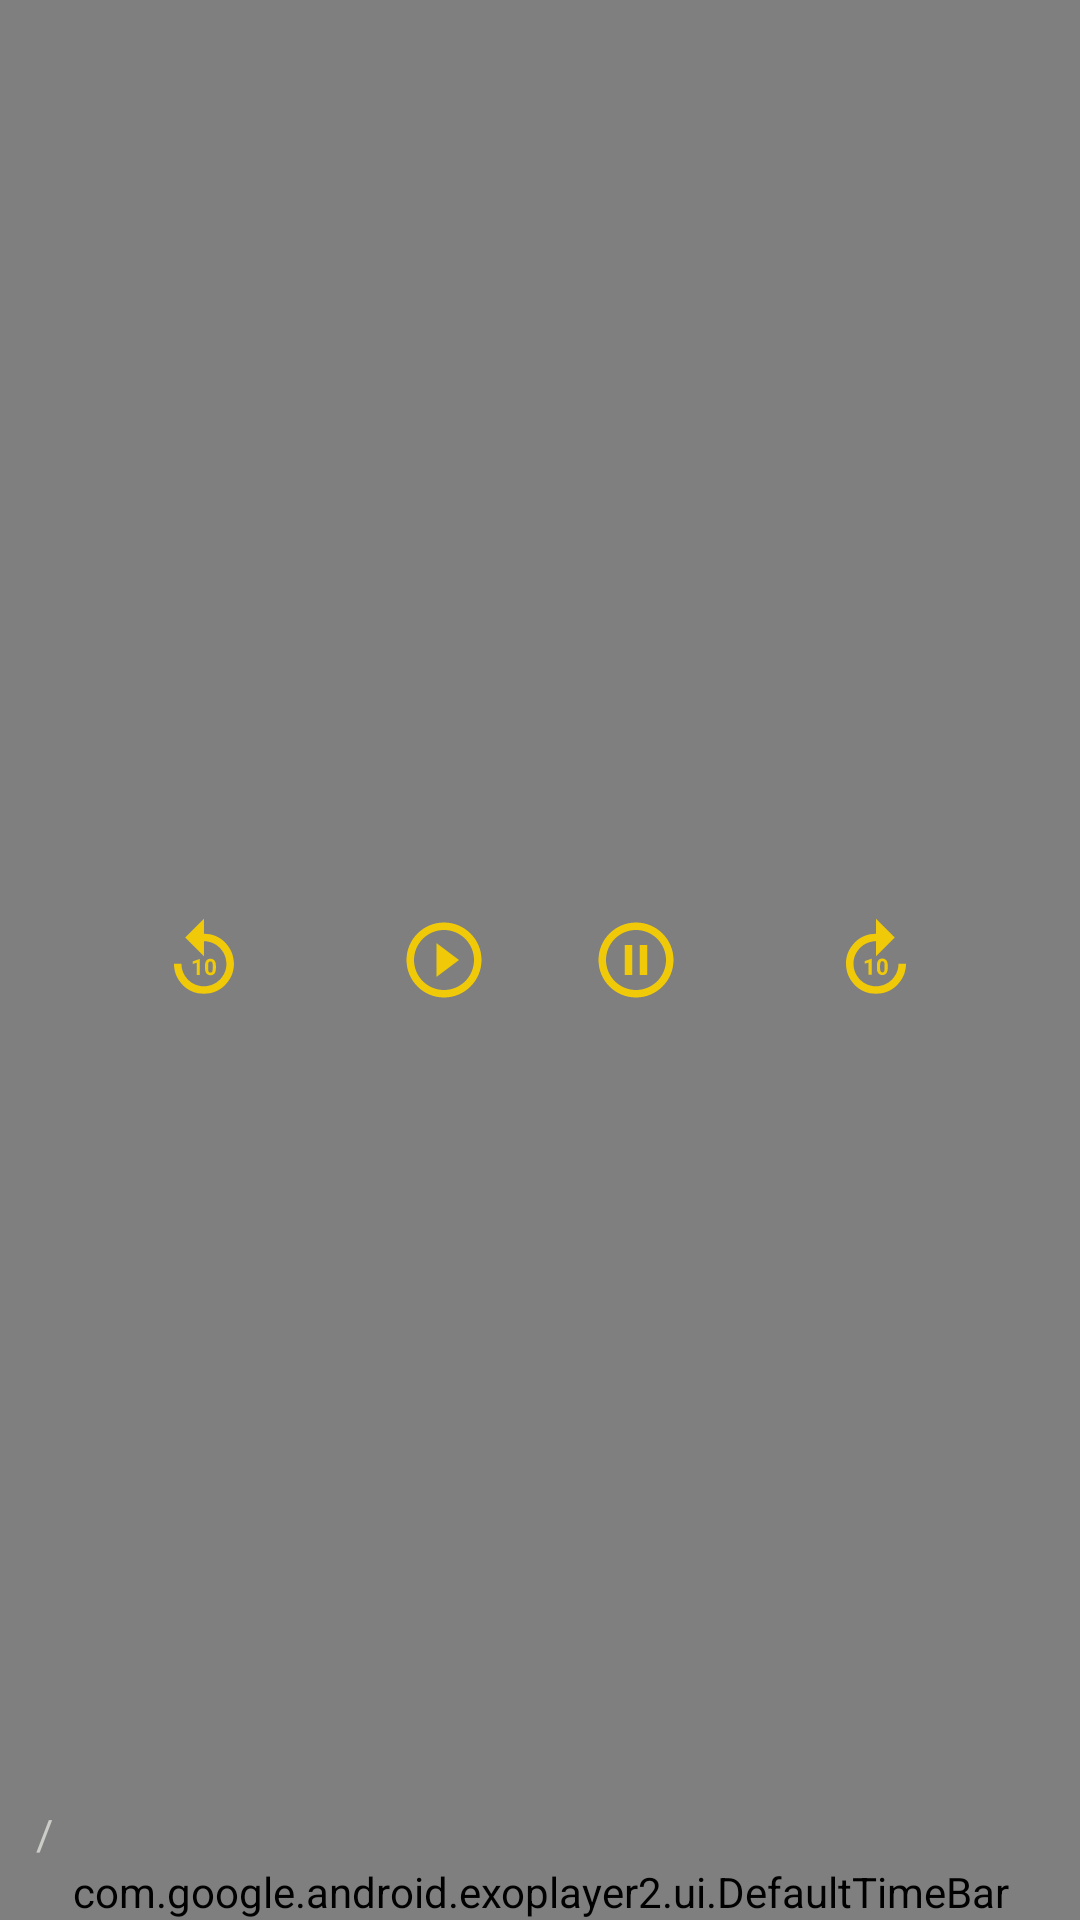

Screen size 1080 x 1920. Icon name, then its box in pixels as Rect(x1, y1, x2, y2):
pause: Rect(598, 922, 674, 998)
play: Rect(406, 922, 482, 998)
rew: Rect(174, 919, 234, 994)
